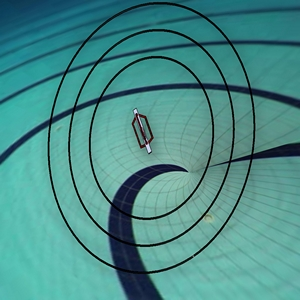circle: (28, 2, 282, 285)
submarine: (113, 96, 159, 156)
